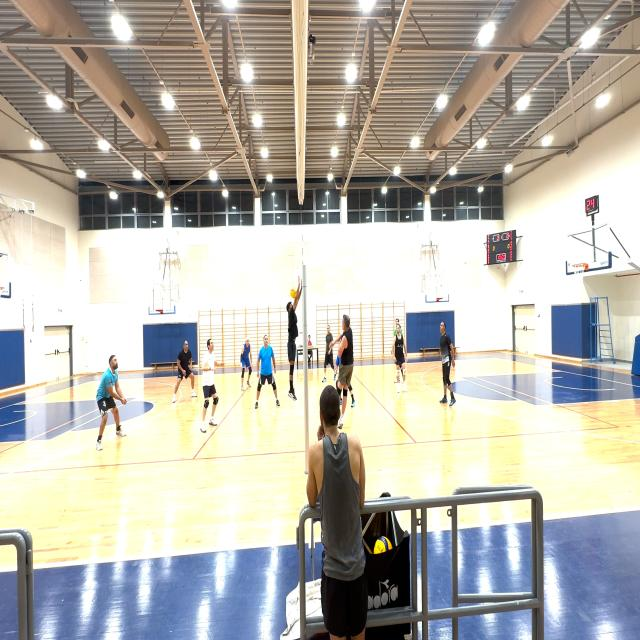volleyball: (290, 288, 296, 299)
